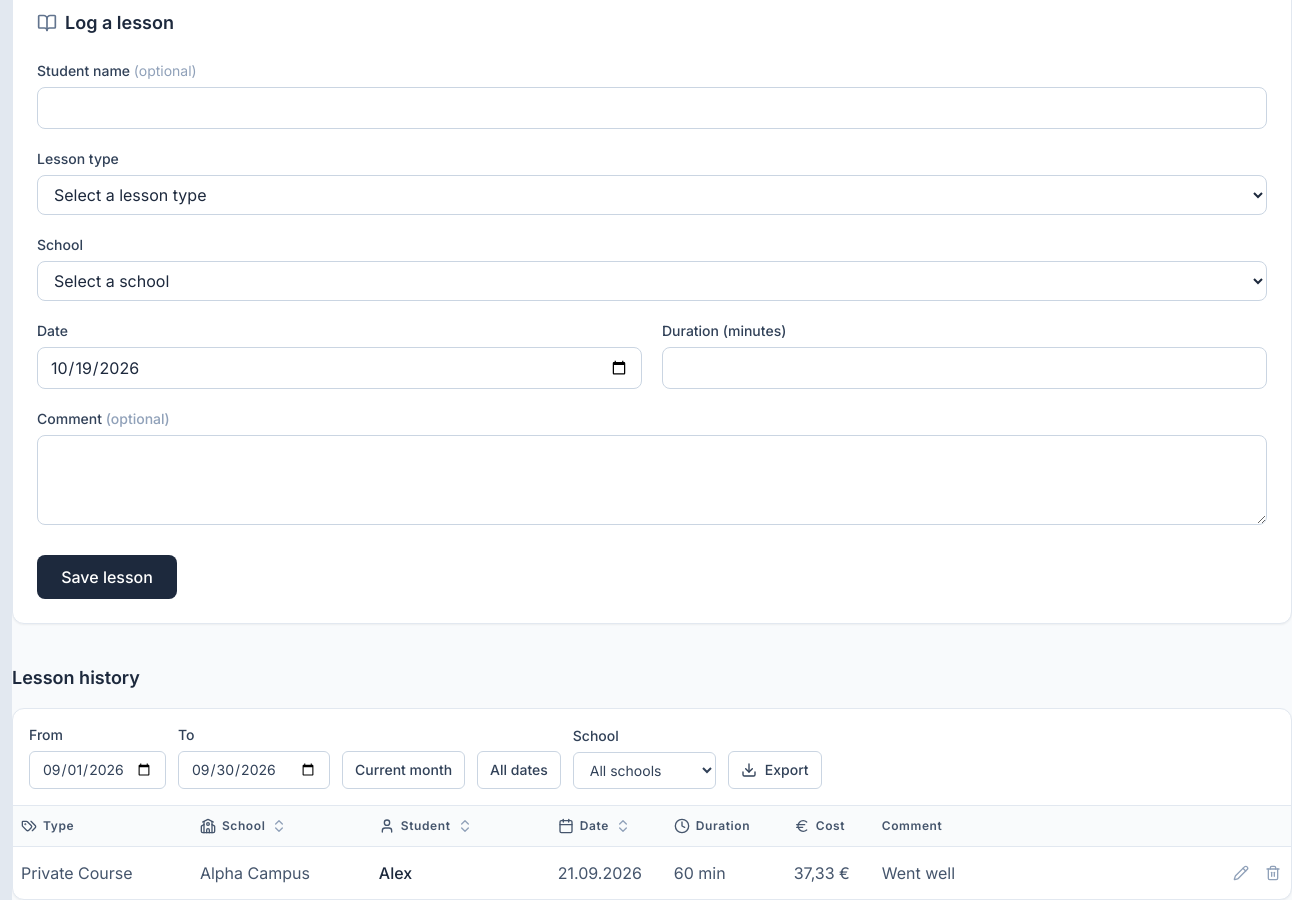
Test: LessonsPage › closes the edit form when the lesson being edited is deleted
The width and height of the screenshot is (1292, 900).
(page scrolled)
Click the button named "edit lesson for alex".
click(1241, 873)  # box [1227,859,1255,887]
(page scrolled)
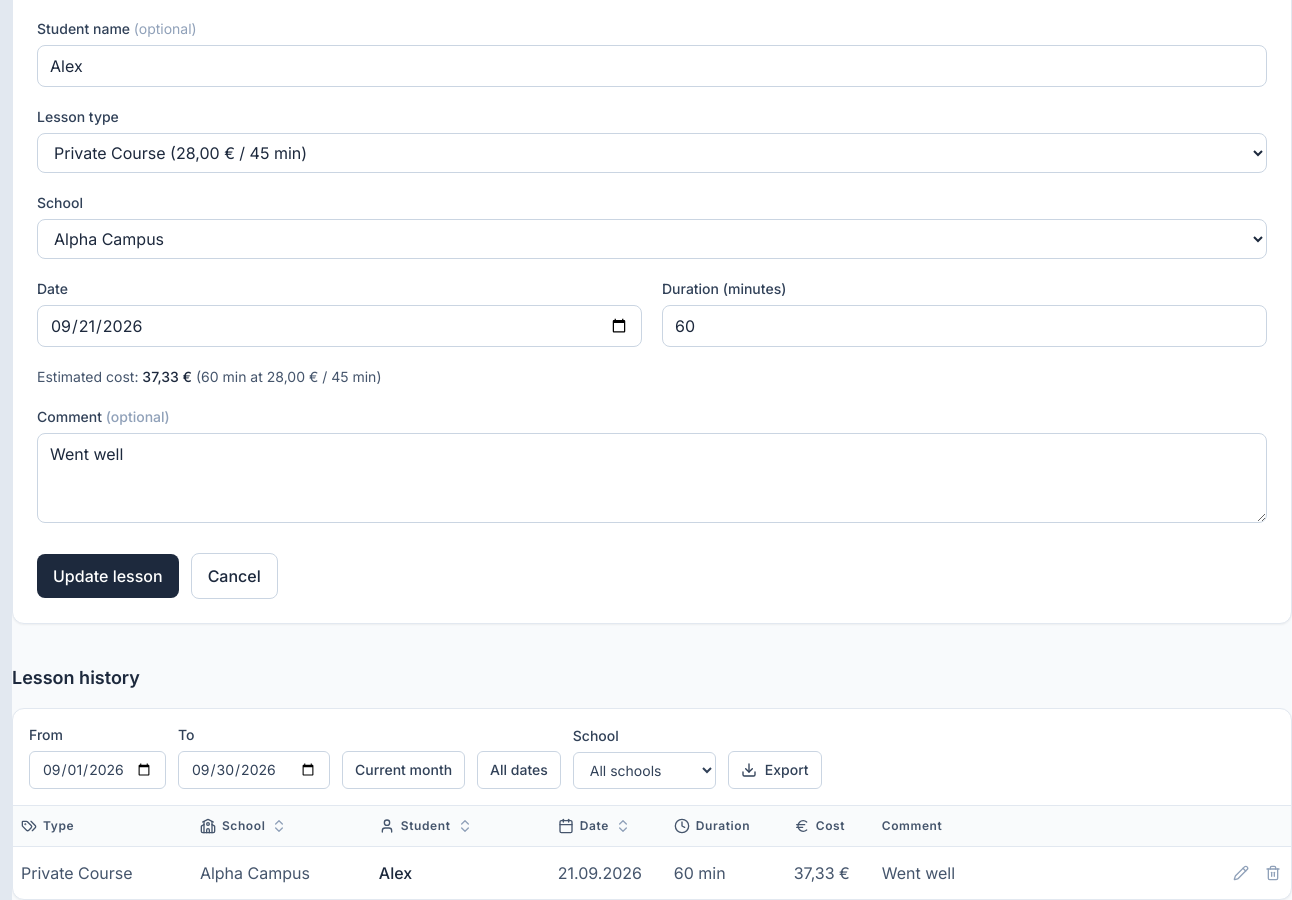
Click the button named "delete lesson for alex".
click(1273, 873)  # box [1259,859,1287,887]
(page scrolled)
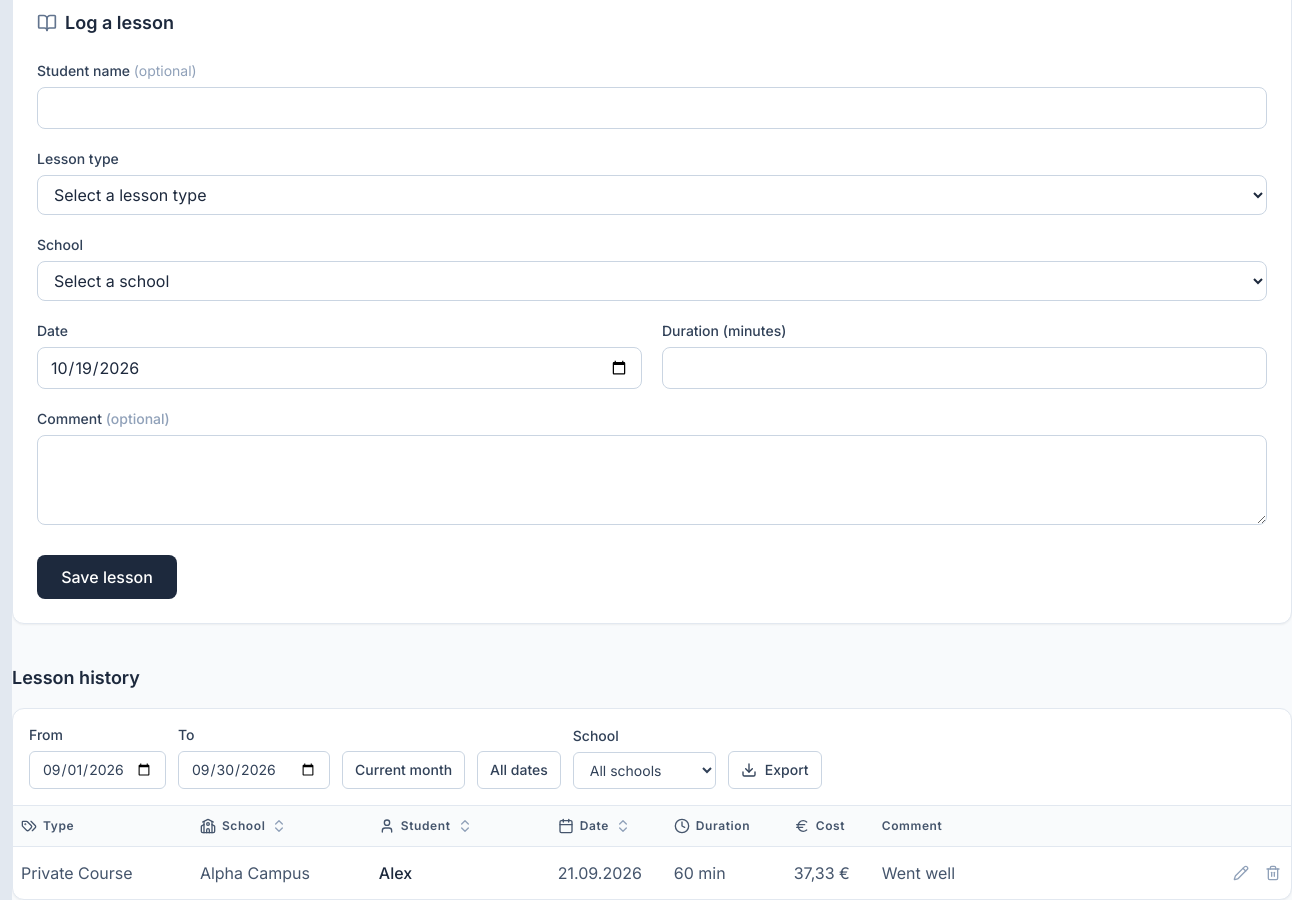
Expected: the heading "Log a lesson" is shown, [37,12,174,33]
